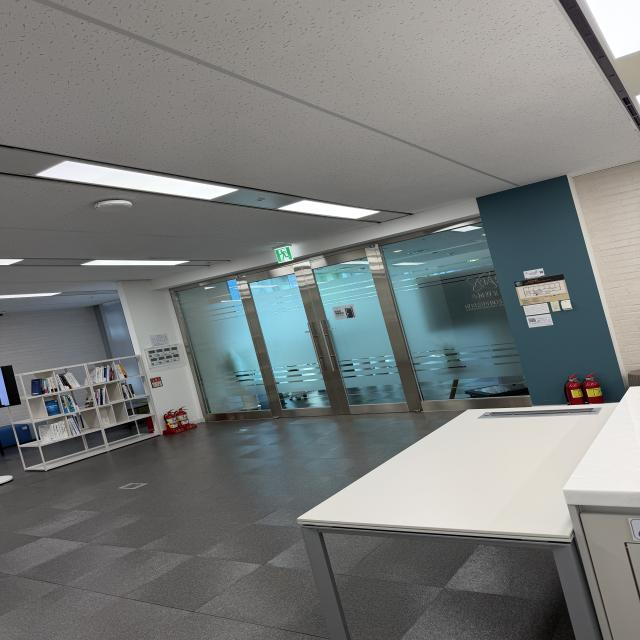front_door: (170, 218, 531, 420)
